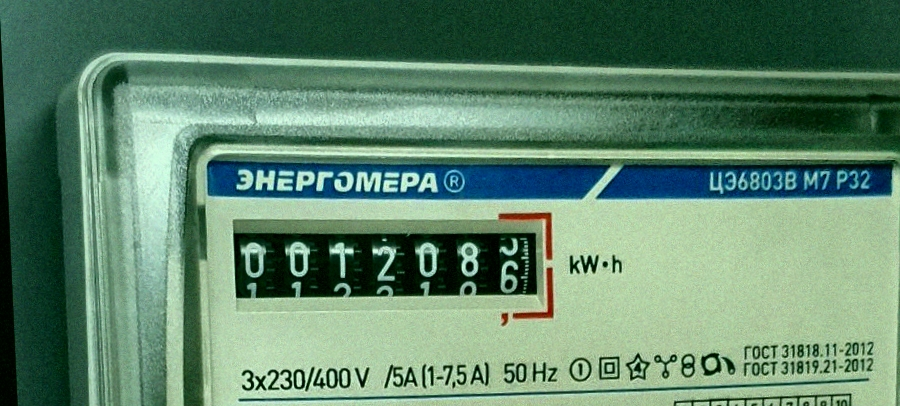0: (284, 236, 314, 279), (241, 236, 267, 279), (415, 238, 440, 278)
1: (329, 237, 353, 279)
2: (372, 242, 399, 282)
6: (495, 257, 521, 294)
8: (457, 238, 481, 279)
screen: (222, 191, 567, 345)
